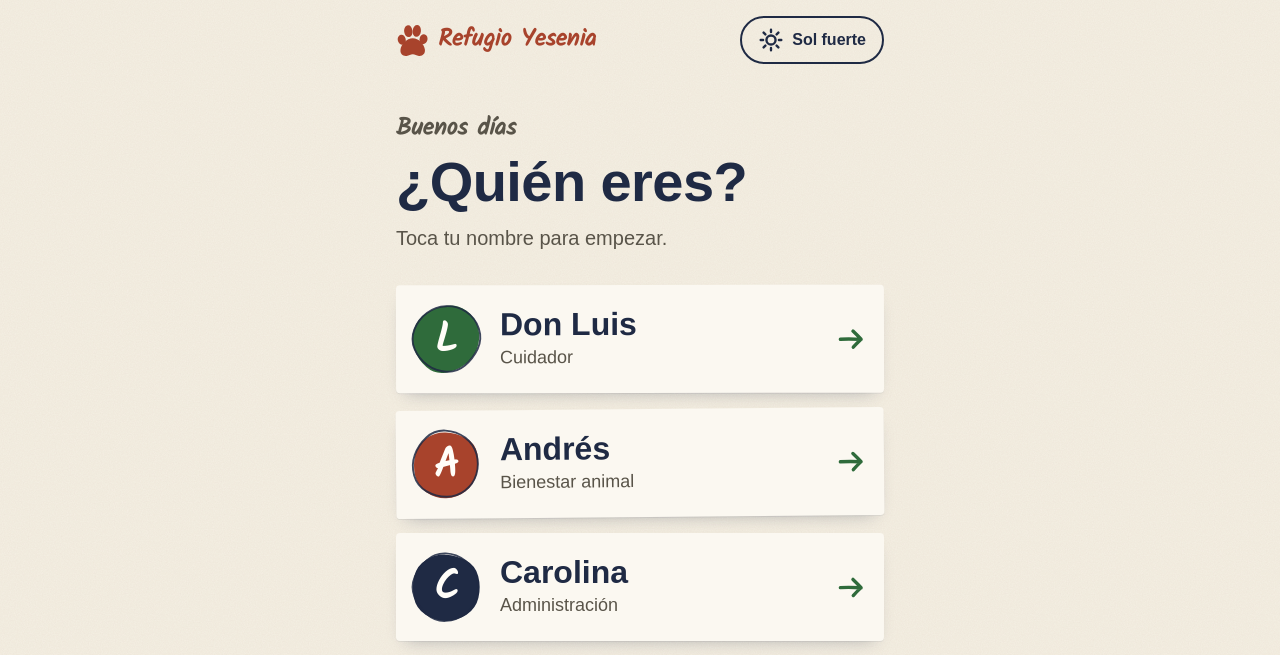
Test: Plata › sin monto no deja seguir
Click the button "C Carolina Administración" at (446, 587), box [396,533,884,642]
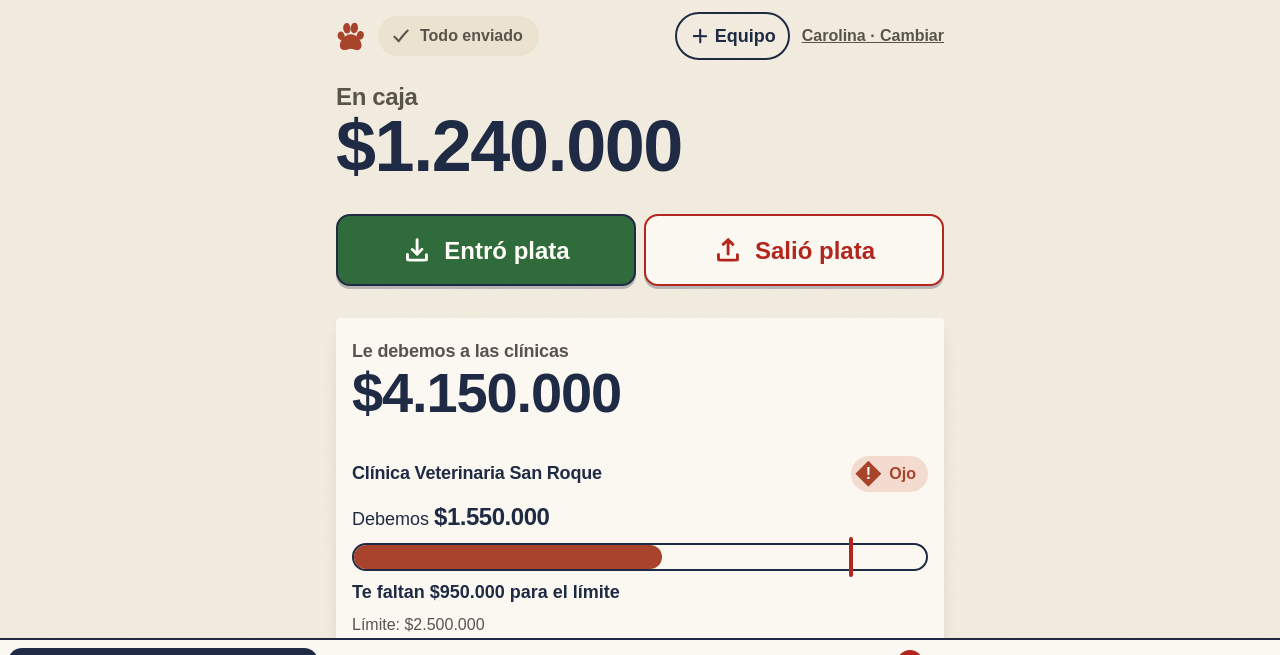
Click the button "Entró plata" at (486, 250), box [336,214,636,286]
(page scrolled)
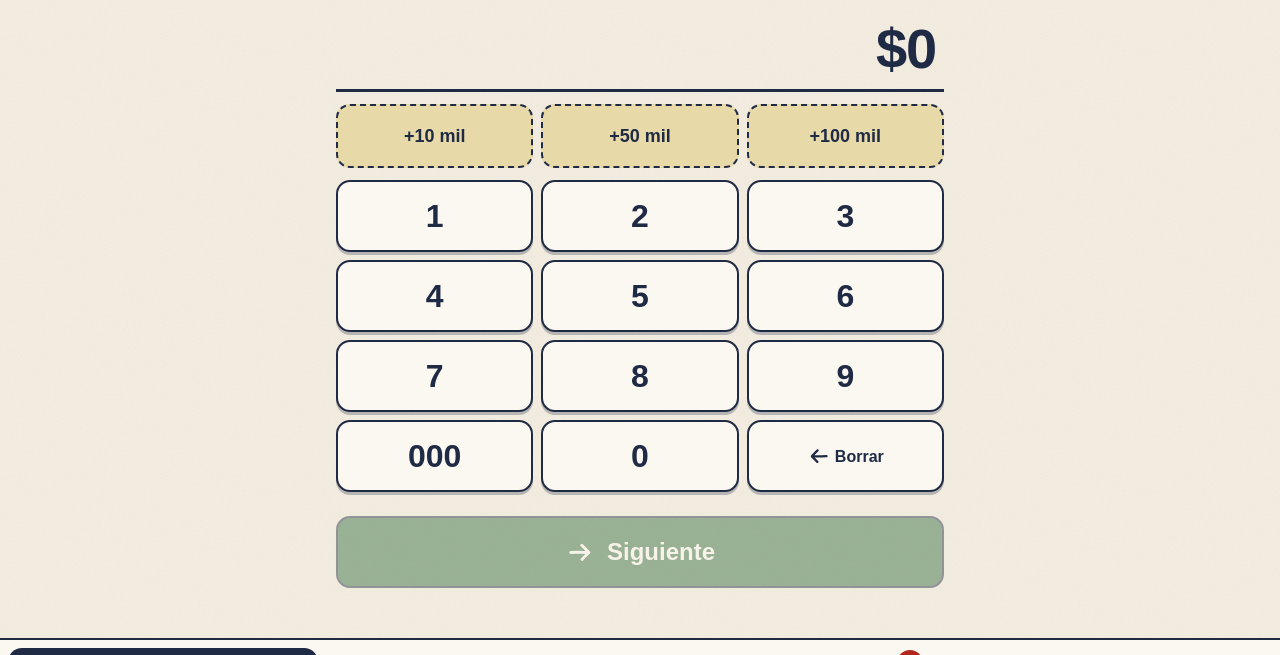
Expected: the button "Siguiente" is disabled, [336,516,944,588]
